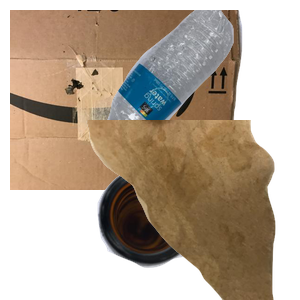cardboard: (10, 10, 245, 190)
glass: (95, 164, 286, 300)
plastic: (94, 10, 300, 154)
trash: (84, 120, 300, 300)
